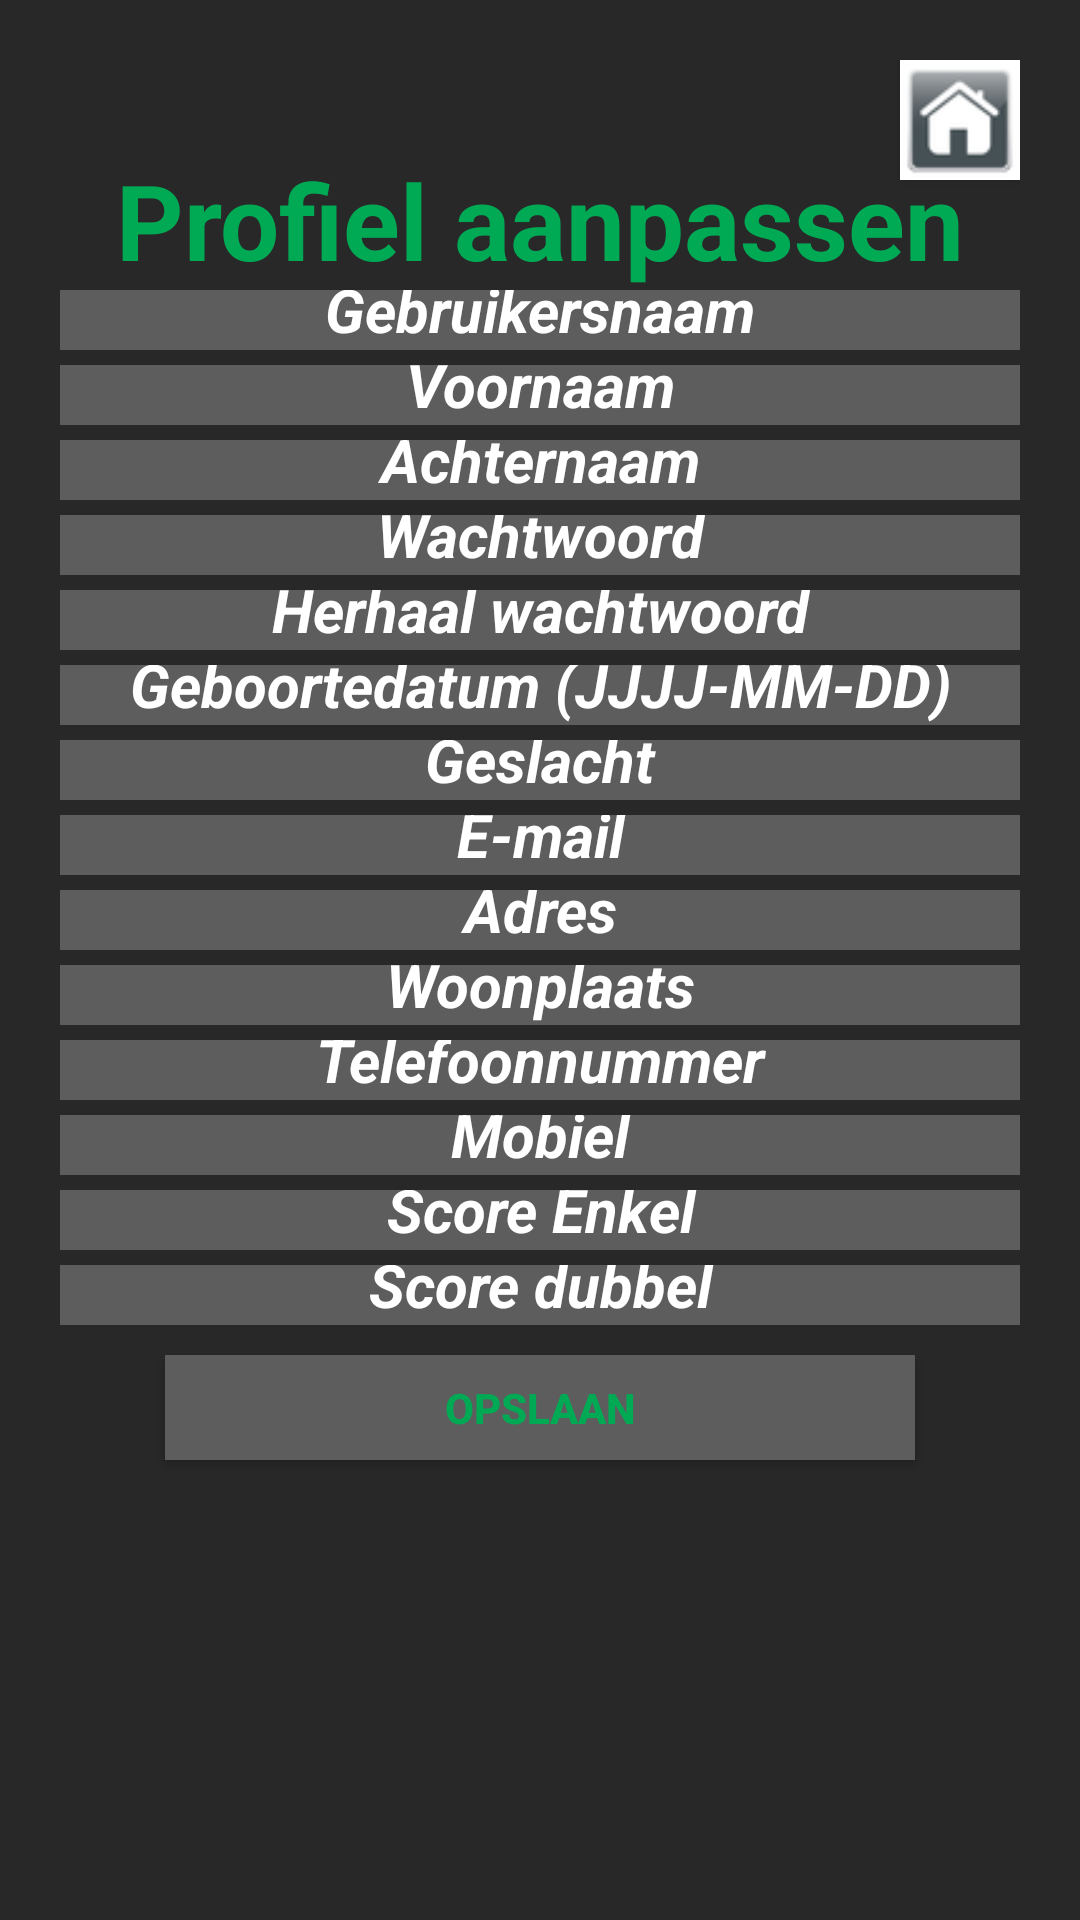

Named icons in this screenshot (1080px x 1920px) and their bounding boxes, (x1, y1, x2, y2):
home: (900, 60, 1020, 180)
